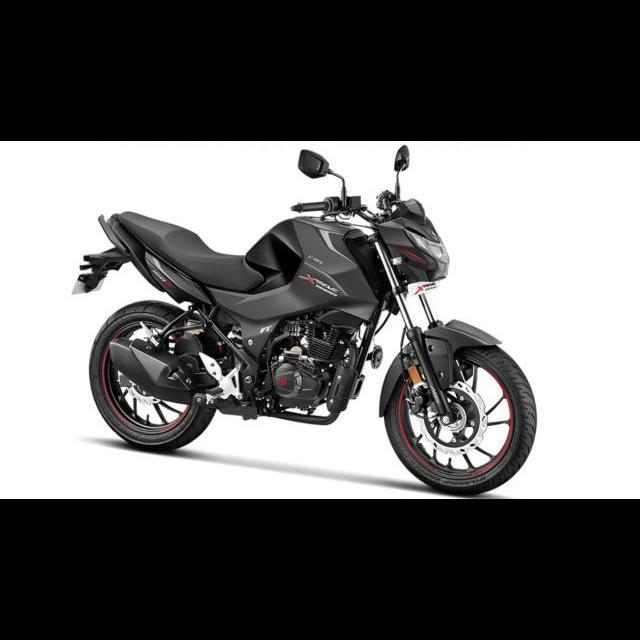motorcycle: (65, 143, 540, 498)
